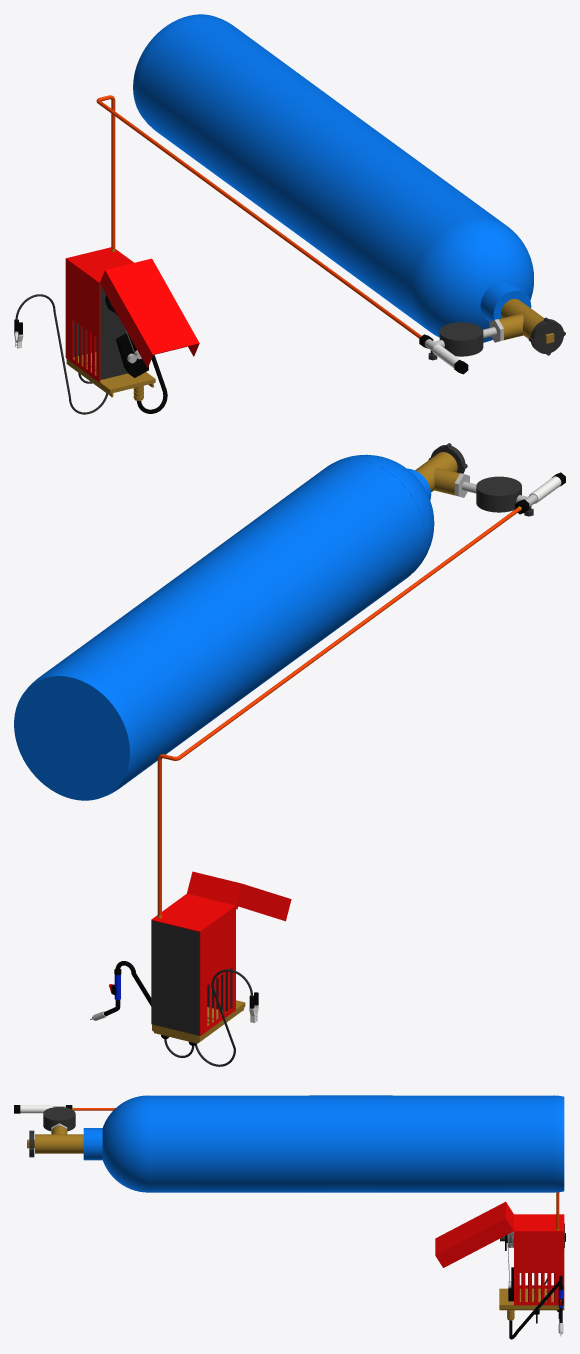
File: BAHAN AR MESIN KOMPONEN MESIN LAS GMAW v1.fbx
3 renders of one model, top to bottom at view 1: azimuth 30°, elevation 25°; view 2: azimuth 150°, elevation 25°; view 3: azimuth 270°, elevation 25°, orthographic. The views are drawn at different scales.
Parts seen in each view (by area): view 1: Body53, Body55, Body20, Body10, Body76, Body11, Body8, Body56, Body54, Body64, Body60, Body57 (+1 smaller); view 2: Body53, Body54, Body10, Body9, Body20, Body76, Body55, Body64, Body8, Body80; view 3: Body53, Body10, Body55, Body20, Body54, Body57, Body8, Body56, Body64.
Part boxes in pixels (box(x1,y1,x2,y2)): Body53: box(139, 18, 503, 329); Body55: box(412, 218, 533, 342); Body20: box(100, 258, 199, 367); Body10: box(65, 247, 133, 382); Body76: box(97, 100, 421, 338); Body11: box(100, 285, 127, 379); Body8: box(66, 352, 155, 400); Body56: box(480, 281, 531, 321); Body54: box(133, 14, 232, 128); Body64: box(439, 322, 483, 348); Body60: box(528, 317, 565, 355); Body57: box(501, 299, 544, 338); Body53: box(43, 459, 424, 785); Body54: box(14, 669, 138, 800); Body10: box(151, 893, 235, 1035); Body9: box(152, 920, 199, 1035); Body20: box(187, 871, 291, 921); Body76: box(179, 507, 520, 758); Body55: box(326, 454, 434, 575); Body64: box(476, 476, 521, 504); Body8: box(152, 1000, 245, 1043); Body80: box(157, 760, 161, 915); Body53: box(148, 1095, 553, 1192); Body10: box(514, 1214, 564, 1305); Body55: box(102, 1095, 148, 1192); Body20: box(435, 1201, 513, 1267); Body54: box(553, 1095, 564, 1192); Body57: box(35, 1134, 83, 1153); Body8: box(499, 1288, 564, 1320); Body56: box(83, 1128, 102, 1160); Body64: box(43, 1107, 75, 1125).
Bounding box in the file's own units: 1548 × 2290 × 4326.
